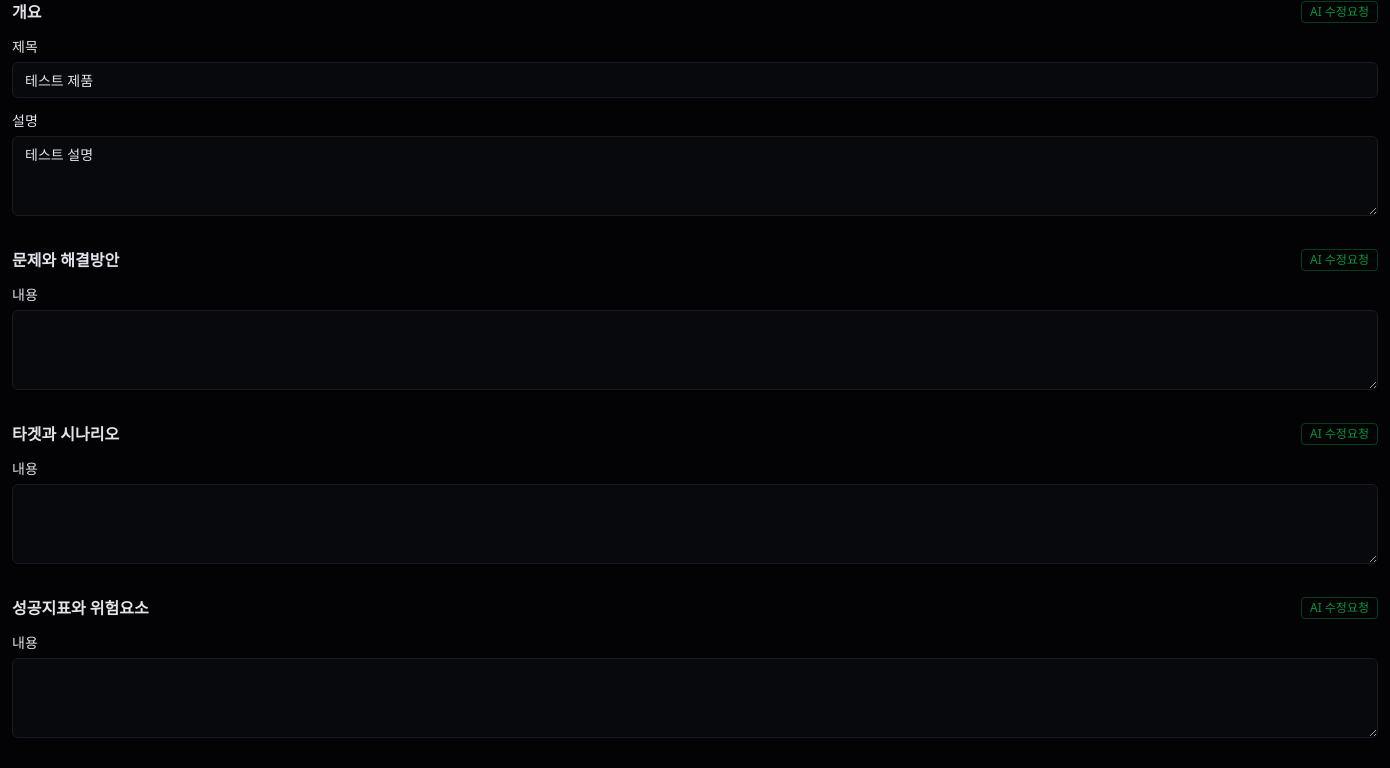
Scenario: PrdForm › Zod 검증 위반(id 형식 오류) 시 인라인 에러가 표시되고 저장 버튼이 비활성화된다
Replace the text in the field with test id "input-title" with "수정" at (695, 80), box [12,62,1378,98]
Wait 500 ms
(page scrolled)
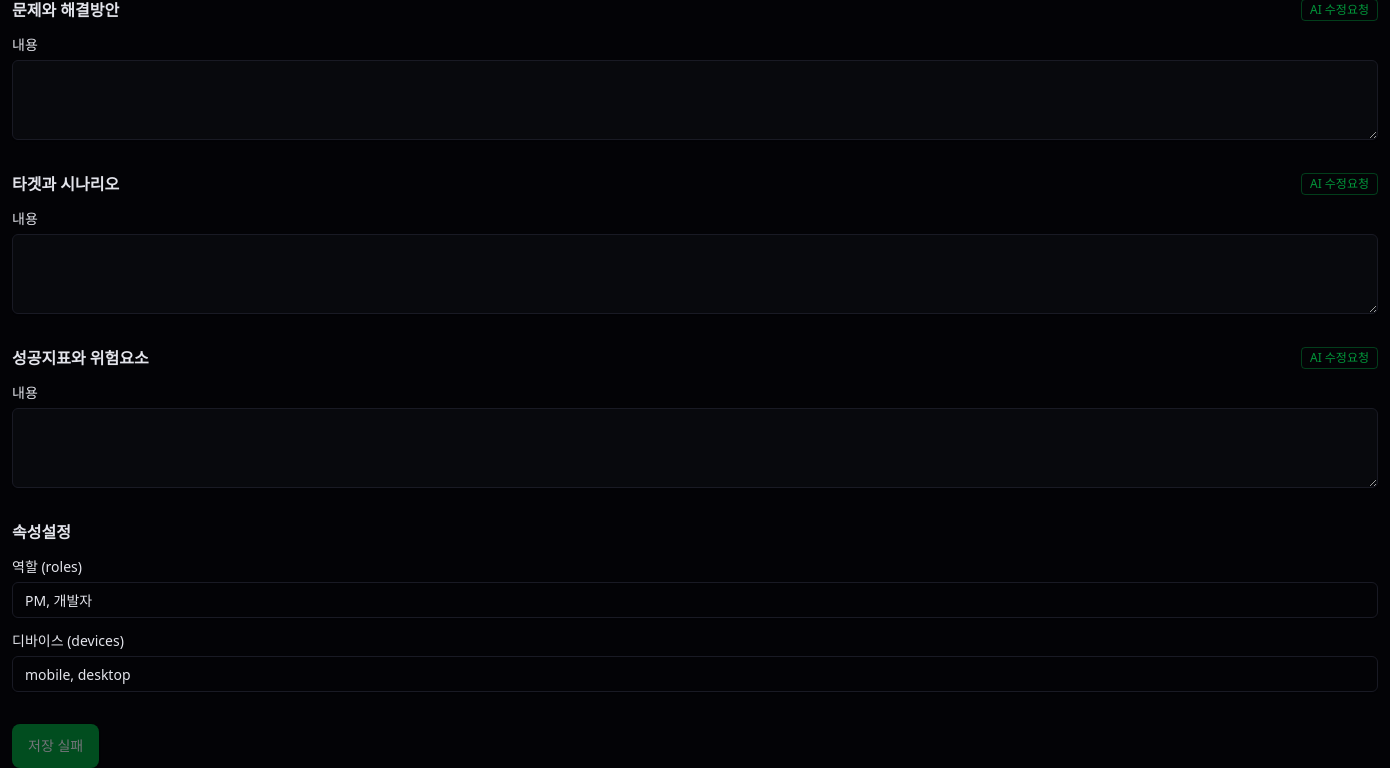
Expected: the button with test id "save-button" is disabled, [12,724,99,767]
